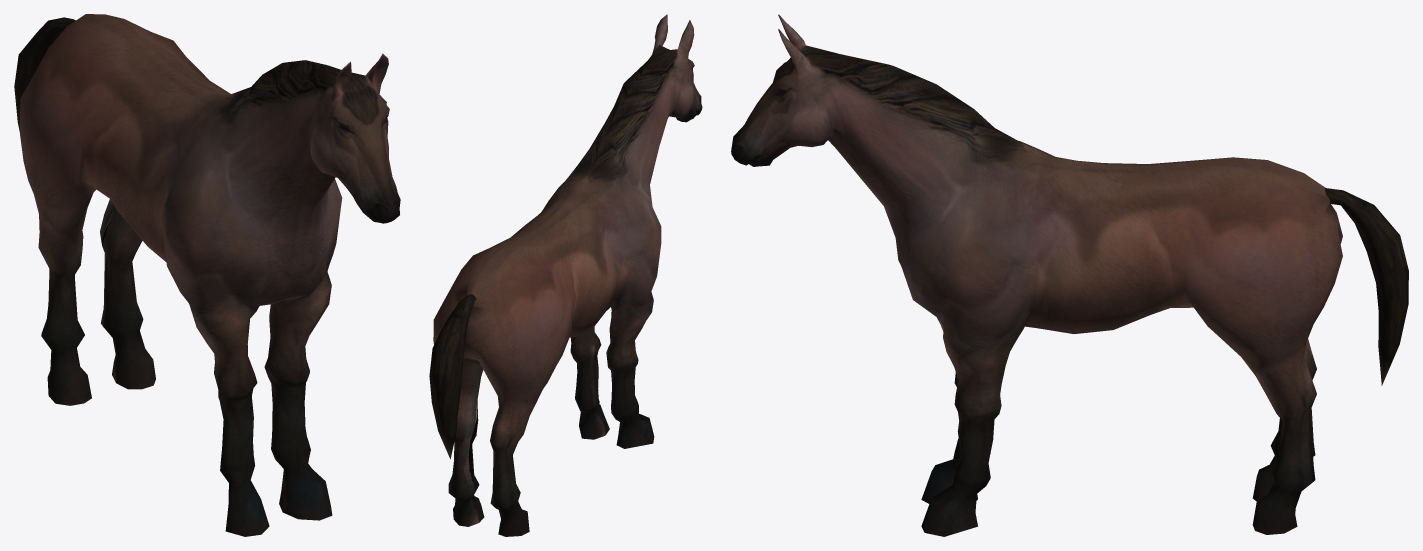
Rendered from Horse7.glb.
3 renders of one model, left to right at view 1: azimuth 30°, elevation 25°; view 2: azimuth 150°, elevation 25°; view 3: azimuth 270°, elevation 25°, orthographic. The views are drawn at different scales.
Parts seen in each view (by area): view 1: Horse7; view 2: Horse7; view 3: Horse7.
Part boxes in pixels (x1,y1,x2,y2): Horse7: (14,14,400,536); Horse7: (429,14,702,536); Horse7: (731,14,1408,536).
Bounding box in the file's own units: 0.6161 × 1.93 × 2.41.
1 material, 1 textured.
